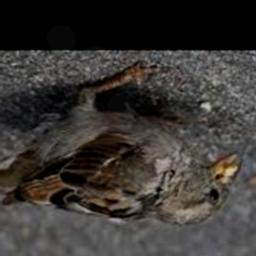Sparrow: (0, 63, 244, 226)
